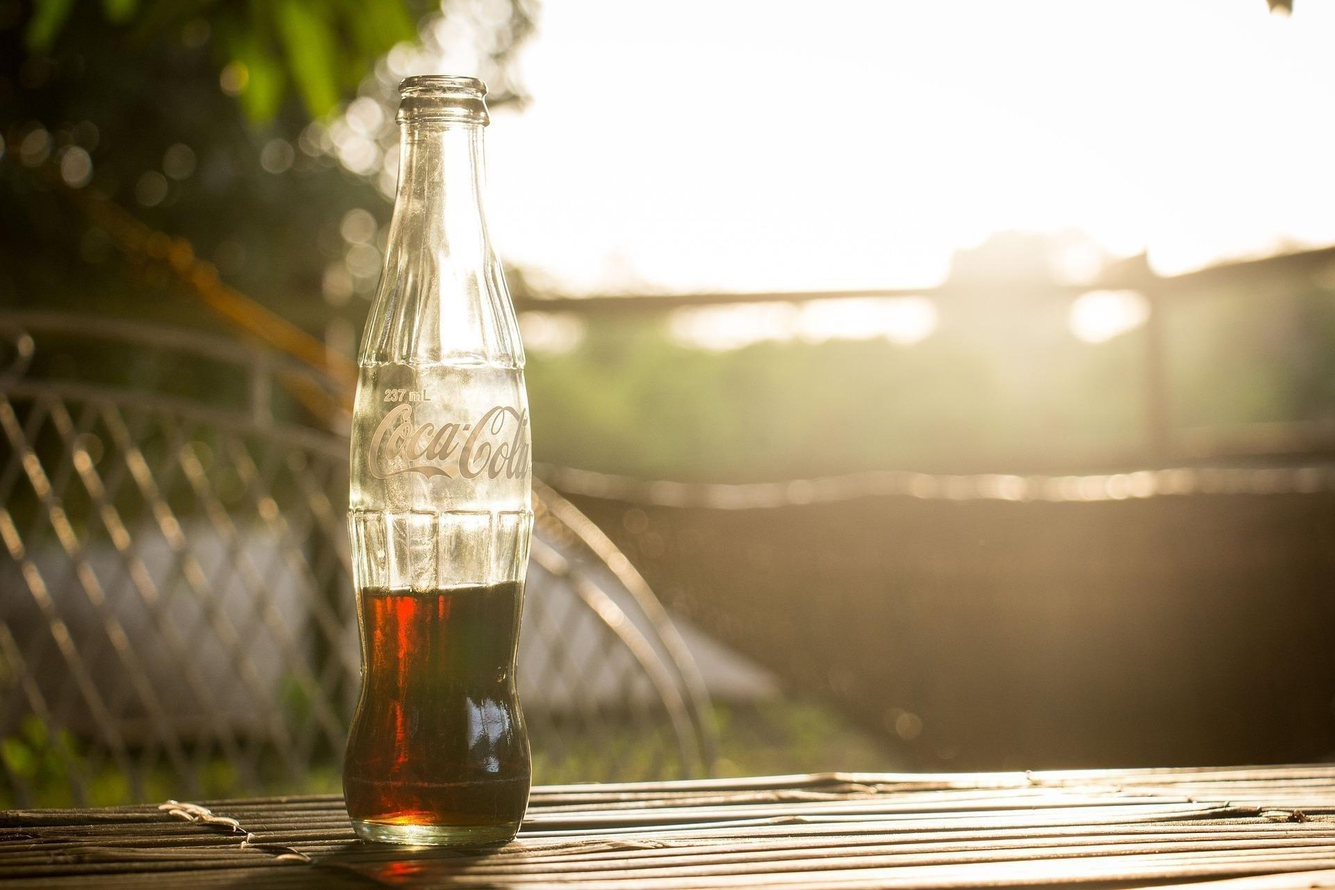bottle-glass: (336, 67, 545, 862)
